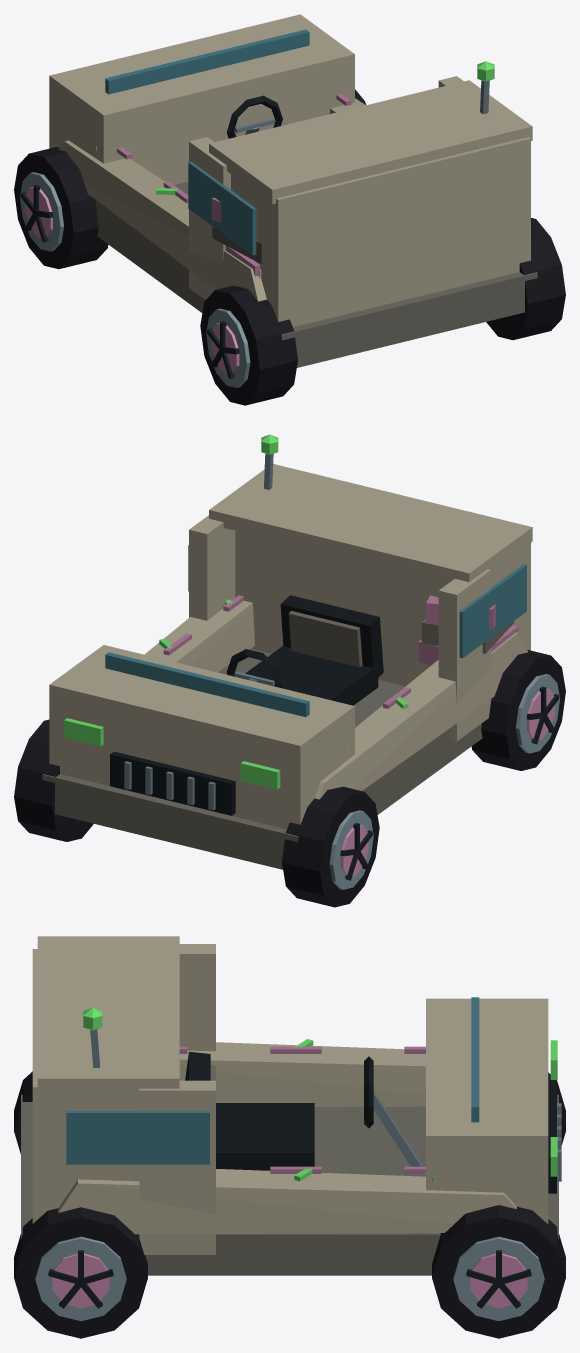
The model's file is kart.glb.
3 renders of one model, top to bottom at view 1: azimuth 30°, elevation 25°; view 2: azimuth 150°, elevation 25°; view 3: azimuth 270°, elevation 25°, orthographic. The views are drawn at different scales.
Parts seen in each view (by area): view 1: identity-van-van-utility-body, wheel-rear-left, wheel-front-left, wheel-rear-right, identity-van-motif-books, identity-van-driver-cockpit, identity-van-motif-antenna, identity-van-motif-runes; view 2: identity-van-van-utility-body, identity-van-driver-cockpit, wheel-front-left, wheel-rear-left, wheel-front-right, identity-van-motif-books, identity-van-motif-runes, identity-van-motif-antenna; view 3: identity-van-van-utility-body, wheel-front-right, wheel-rear-right, identity-van-driver-cockpit, identity-van-motif-runes, identity-van-motif-antenna, wheel-rear-left.
Boxes of the visible parts, x1=… form: identity-van-van-utility-body: x1=49, y1=14, x2=537, y2=367; wheel-rear-left: x1=200, y1=285, x2=297, y2=405; wheel-front-left: x1=14, y1=147, x2=108, y2=269; wheel-rear-right: x1=486, y1=218, x2=565, y2=340; identity-van-motif-books: x1=211, y1=197, x2=261, y2=278; identity-van-driver-cockpit: x1=226, y1=95, x2=282, y2=138; identity-van-motif-antenna: x1=477, y1=61, x2=494, y2=114; identity-van-motif-runes: x1=96, y1=93, x2=351, y2=203; identity-van-van-utility-body: x1=42, y1=464, x2=532, y2=869; identity-van-driver-cockpit: x1=226, y1=595, x2=383, y2=705; wheel-front-left: x1=282, y1=786, x2=379, y2=907; wheel-rear-left: x1=471, y1=649, x2=565, y2=770; wheel-front-right: x1=14, y1=719, x2=93, y2=841; identity-van-motif-books: x1=418, y1=595, x2=518, y2=665; identity-van-motif-runes: x1=159, y1=595, x2=410, y2=751; identity-van-motif-antenna: x1=261, y1=434, x2=278, y2=489; identity-van-van-utility-body: x1=21, y1=936, x2=561, y2=1275; wheel-front-right: x1=432, y1=1205, x2=565, y2=1338; wheel-rear-right: x1=14, y1=1207, x2=147, y2=1338; identity-van-driver-cockpit: x1=185, y1=1051, x2=421, y2=1170; identity-van-motif-runes: x1=179, y1=1039, x2=434, y2=1181; identity-van-motif-antenna: x1=83, y1=1008, x2=102, y2=1067; wheel-rear-left: x1=14, y1=1071, x2=32, y2=1153.
Bounding box in the file's own units: 2.13 × 1.72 × 2.8.
